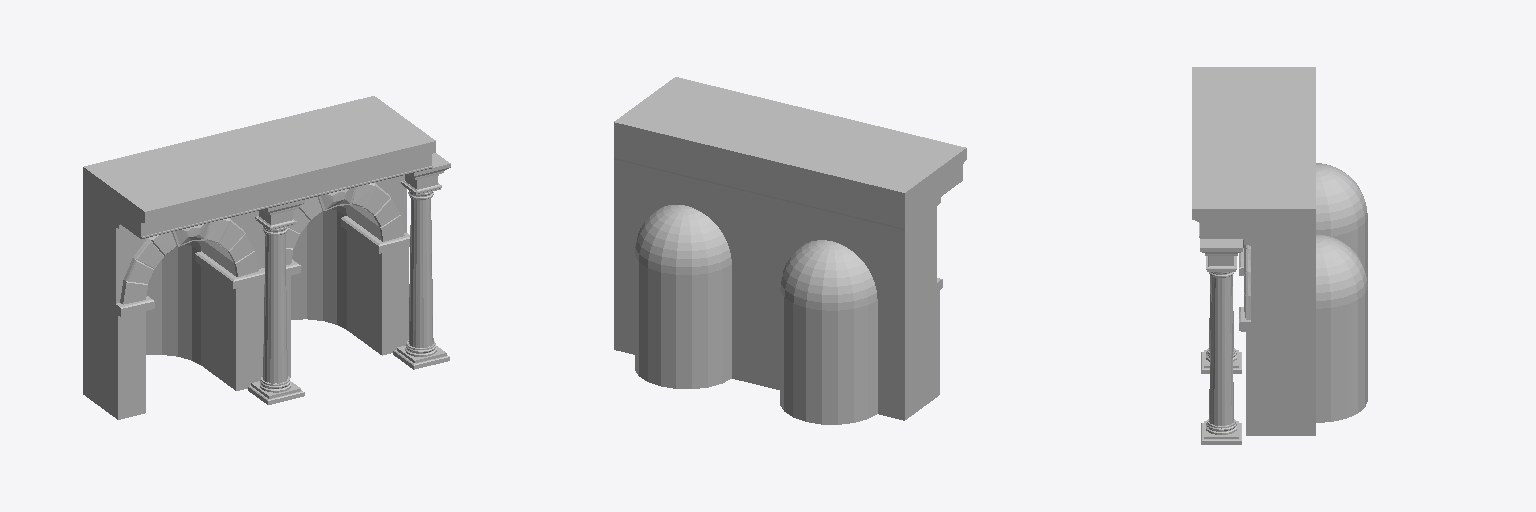
Rendered from ornate_wall_middle.obj.
The picture shows the model from 3 angles: view 1: azimuth 30°, elevation 25°; view 2: azimuth 150°, elevation 25°; view 3: azimuth 270°, elevation 25°; orthographic projection.
Visible parts, largest first — view 1: pCylinder5, polySurface4, polySurface10, polySurface17, polySurface14; view 2: pCylinder5, polySurface10, polySurface4; view 3: pCylinder5, polySurface4, polySurface17, polySurface10, polySurface14.
Boxes of the visible parts, x1,y1,x2,y2 form: pCylinder5: [83, 96, 435, 419]; polySurface4: [291, 205, 346, 329]; polySurface10: [146, 241, 200, 364]; polySurface17: [393, 153, 450, 369]; polySurface14: [248, 200, 304, 404]; pCylinder5: [614, 77, 966, 420]; polySurface10: [780, 240, 877, 424]; polySurface4: [635, 205, 731, 388]; pCylinder5: [1192, 67, 1315, 435]; polySurface4: [1316, 234, 1367, 422]; polySurface17: [1200, 239, 1242, 444]; polySurface10: [1316, 163, 1367, 283]; polySurface14: [1201, 276, 1241, 373].
Size of the model in its own units: 68.08 by 47.83 by 33.41.